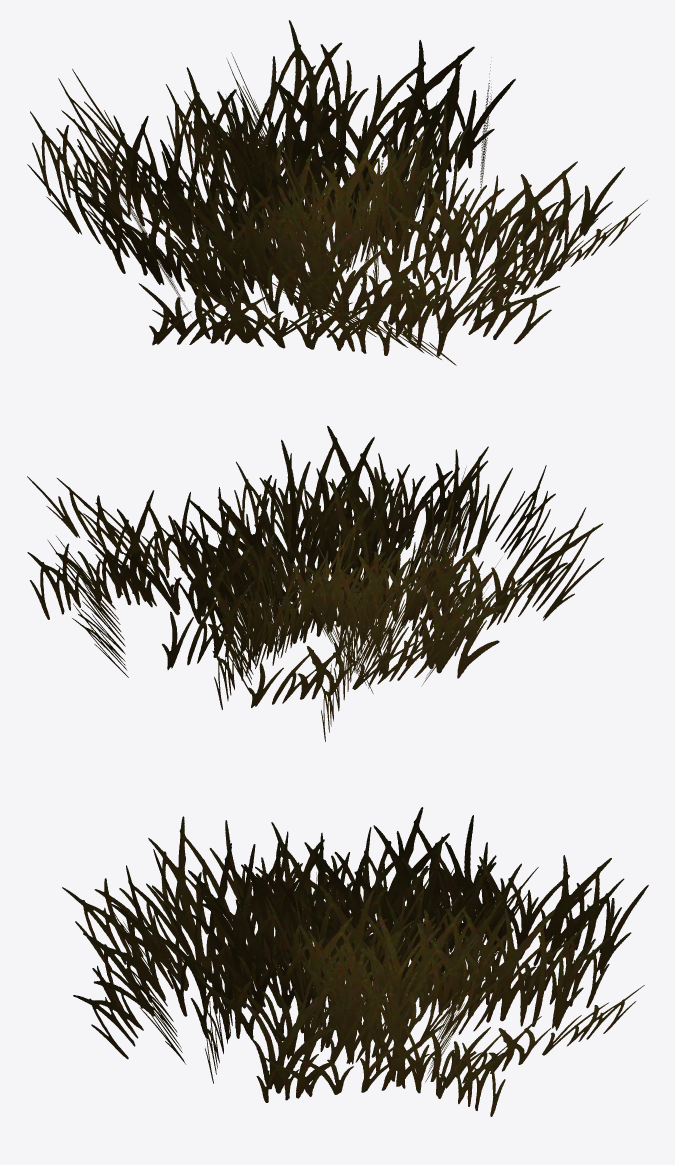
3 renders of one model, top to bottom at view 1: azimuth 30°, elevation 25°; view 2: azimuth 150°, elevation 25°; view 3: azimuth 270°, elevation 25°, orthographic. The views are drawn at different scales.
Parts seen in each view (by area): view 1: SM_DR_GrassShort_03_LOD0; view 2: SM_DR_GrassShort_03_LOD0; view 3: SM_DR_GrassShort_03_LOD0.
Part boxes in pixels (x1,y1,x2,y2): SM_DR_GrassShort_03_LOD0: (27, 20, 647, 365); SM_DR_GrassShort_03_LOD0: (27, 426, 603, 741); SM_DR_GrassShort_03_LOD0: (62, 807, 648, 1116).
Size of the model in its own units: 1.12 by 0.3166 by 1.12.
Materials: 1 (1 with a texture image).
